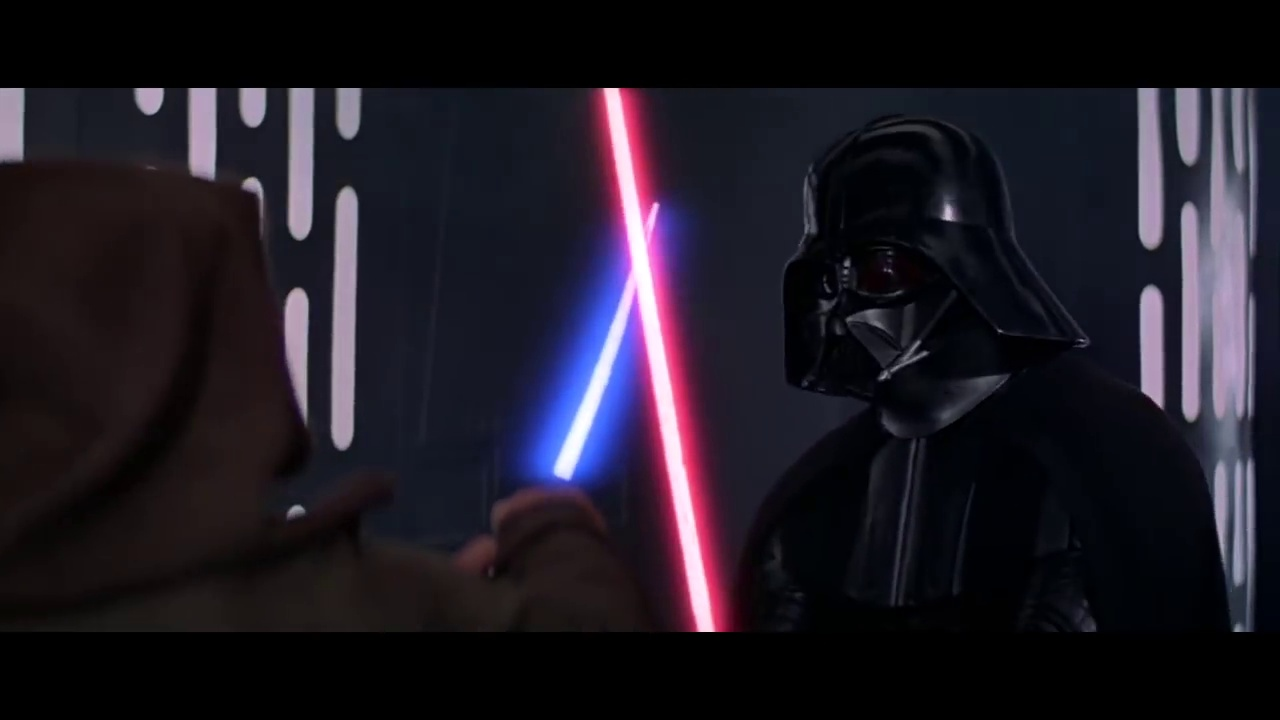lightsaber: (593, 85, 729, 634), (553, 197, 665, 489)
